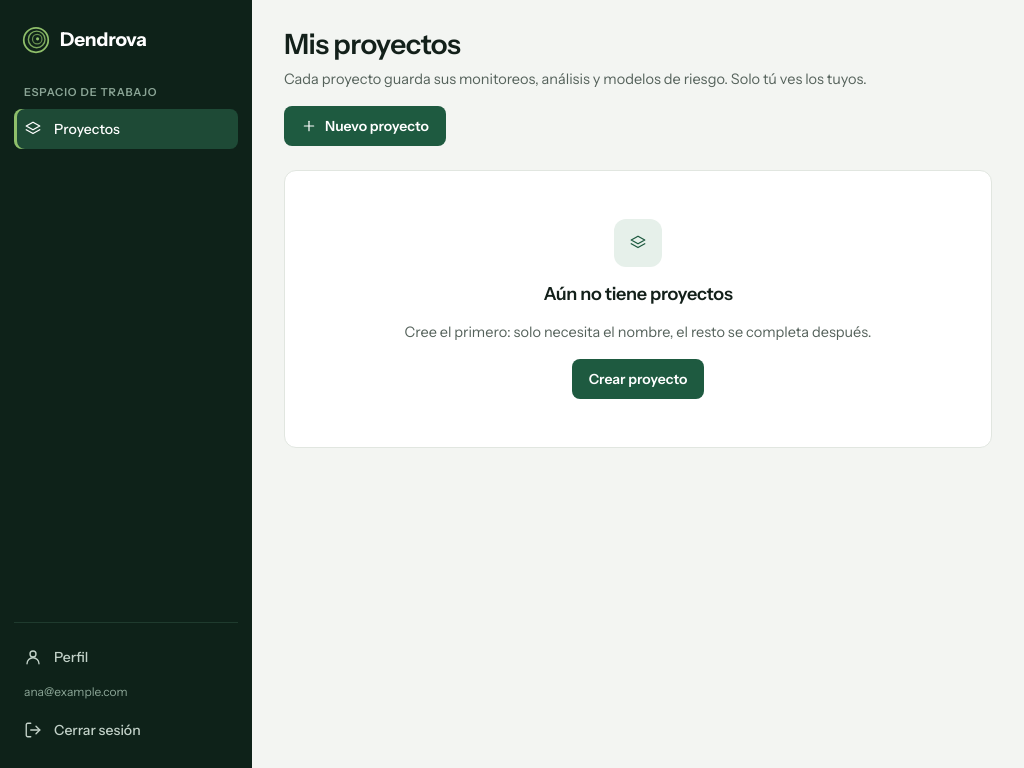
Test case: E1 en la interfaz › salir cierra la sesión y vuelve a la presentación
Click the button "Cerrar sesión" at (126, 730), box [14, 710, 238, 750]
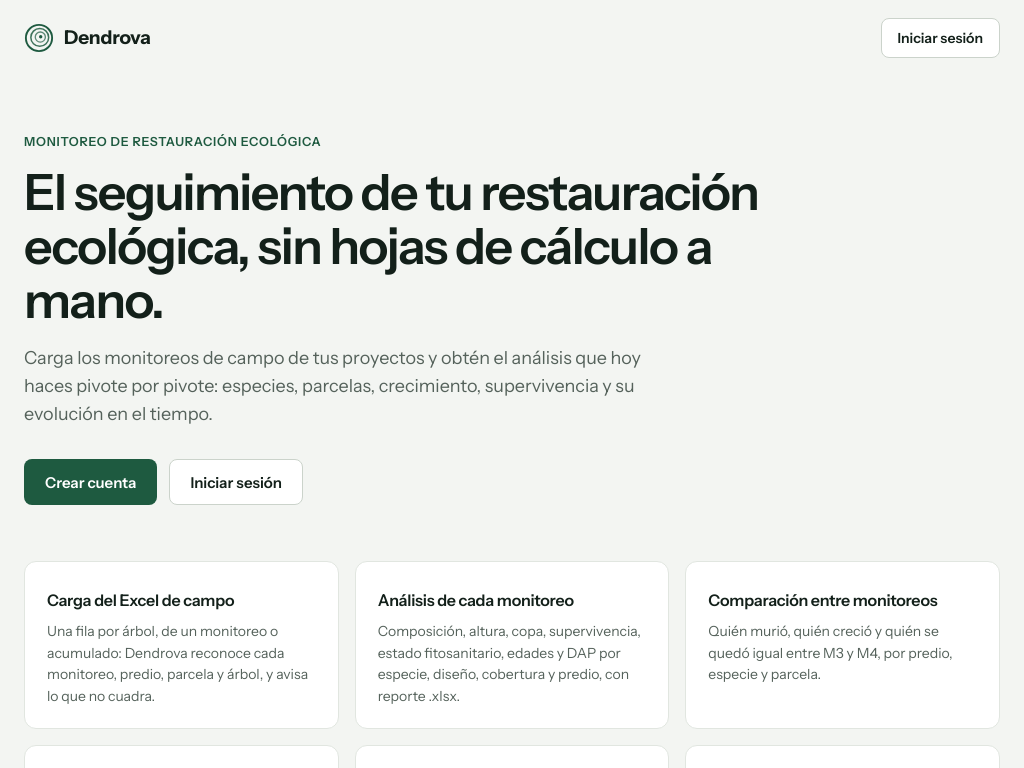
Expected: the heading "sin hojas de cálculo a mano" is shown, [24, 161, 758, 331]
